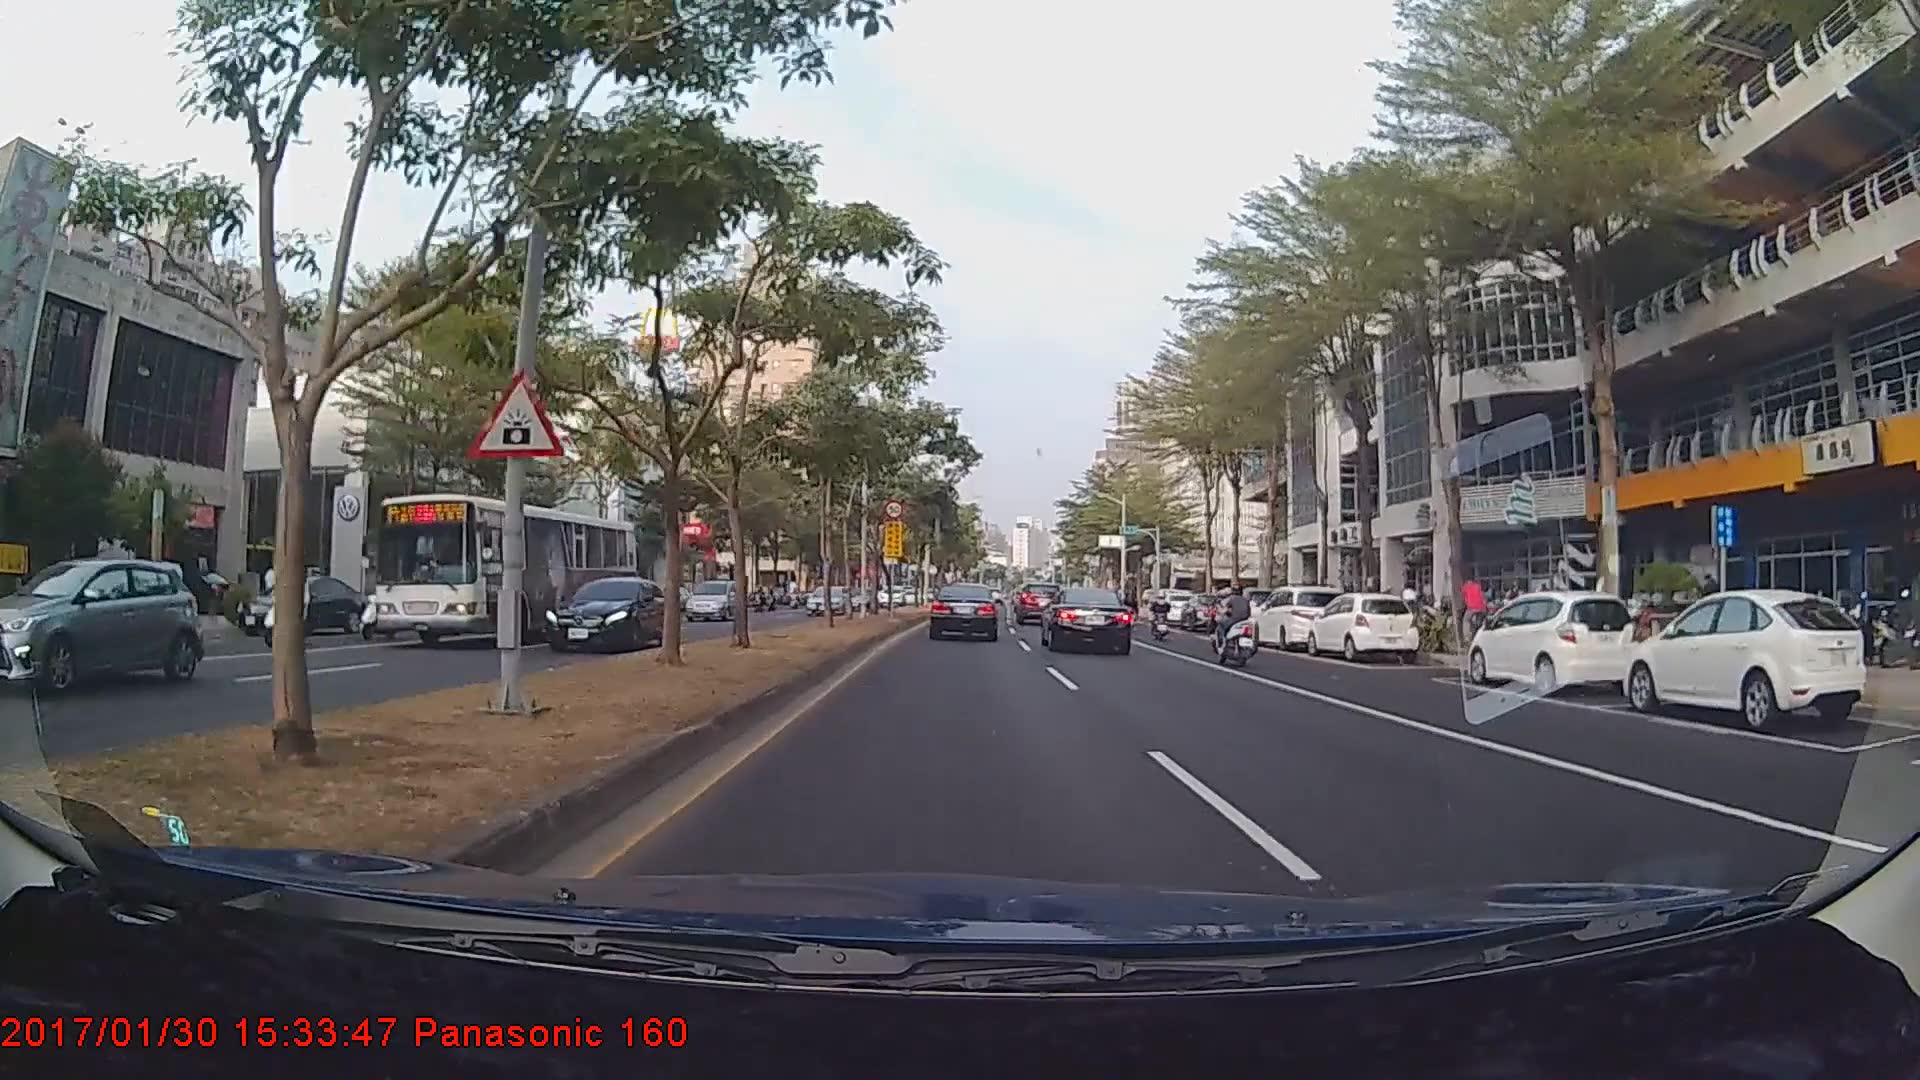rider: (1211, 582, 1266, 675), (1209, 588, 1258, 657), (1150, 586, 1178, 643)
vehicle: (371, 492, 640, 650), (1623, 587, 1870, 732), (0, 558, 199, 692), (1469, 590, 1643, 699), (542, 573, 677, 654), (234, 576, 371, 638), (1308, 591, 1417, 662), (1251, 586, 1351, 650), (1041, 585, 1133, 656), (927, 581, 1002, 642), (682, 577, 744, 620), (1014, 580, 1067, 625), (803, 584, 852, 616)
